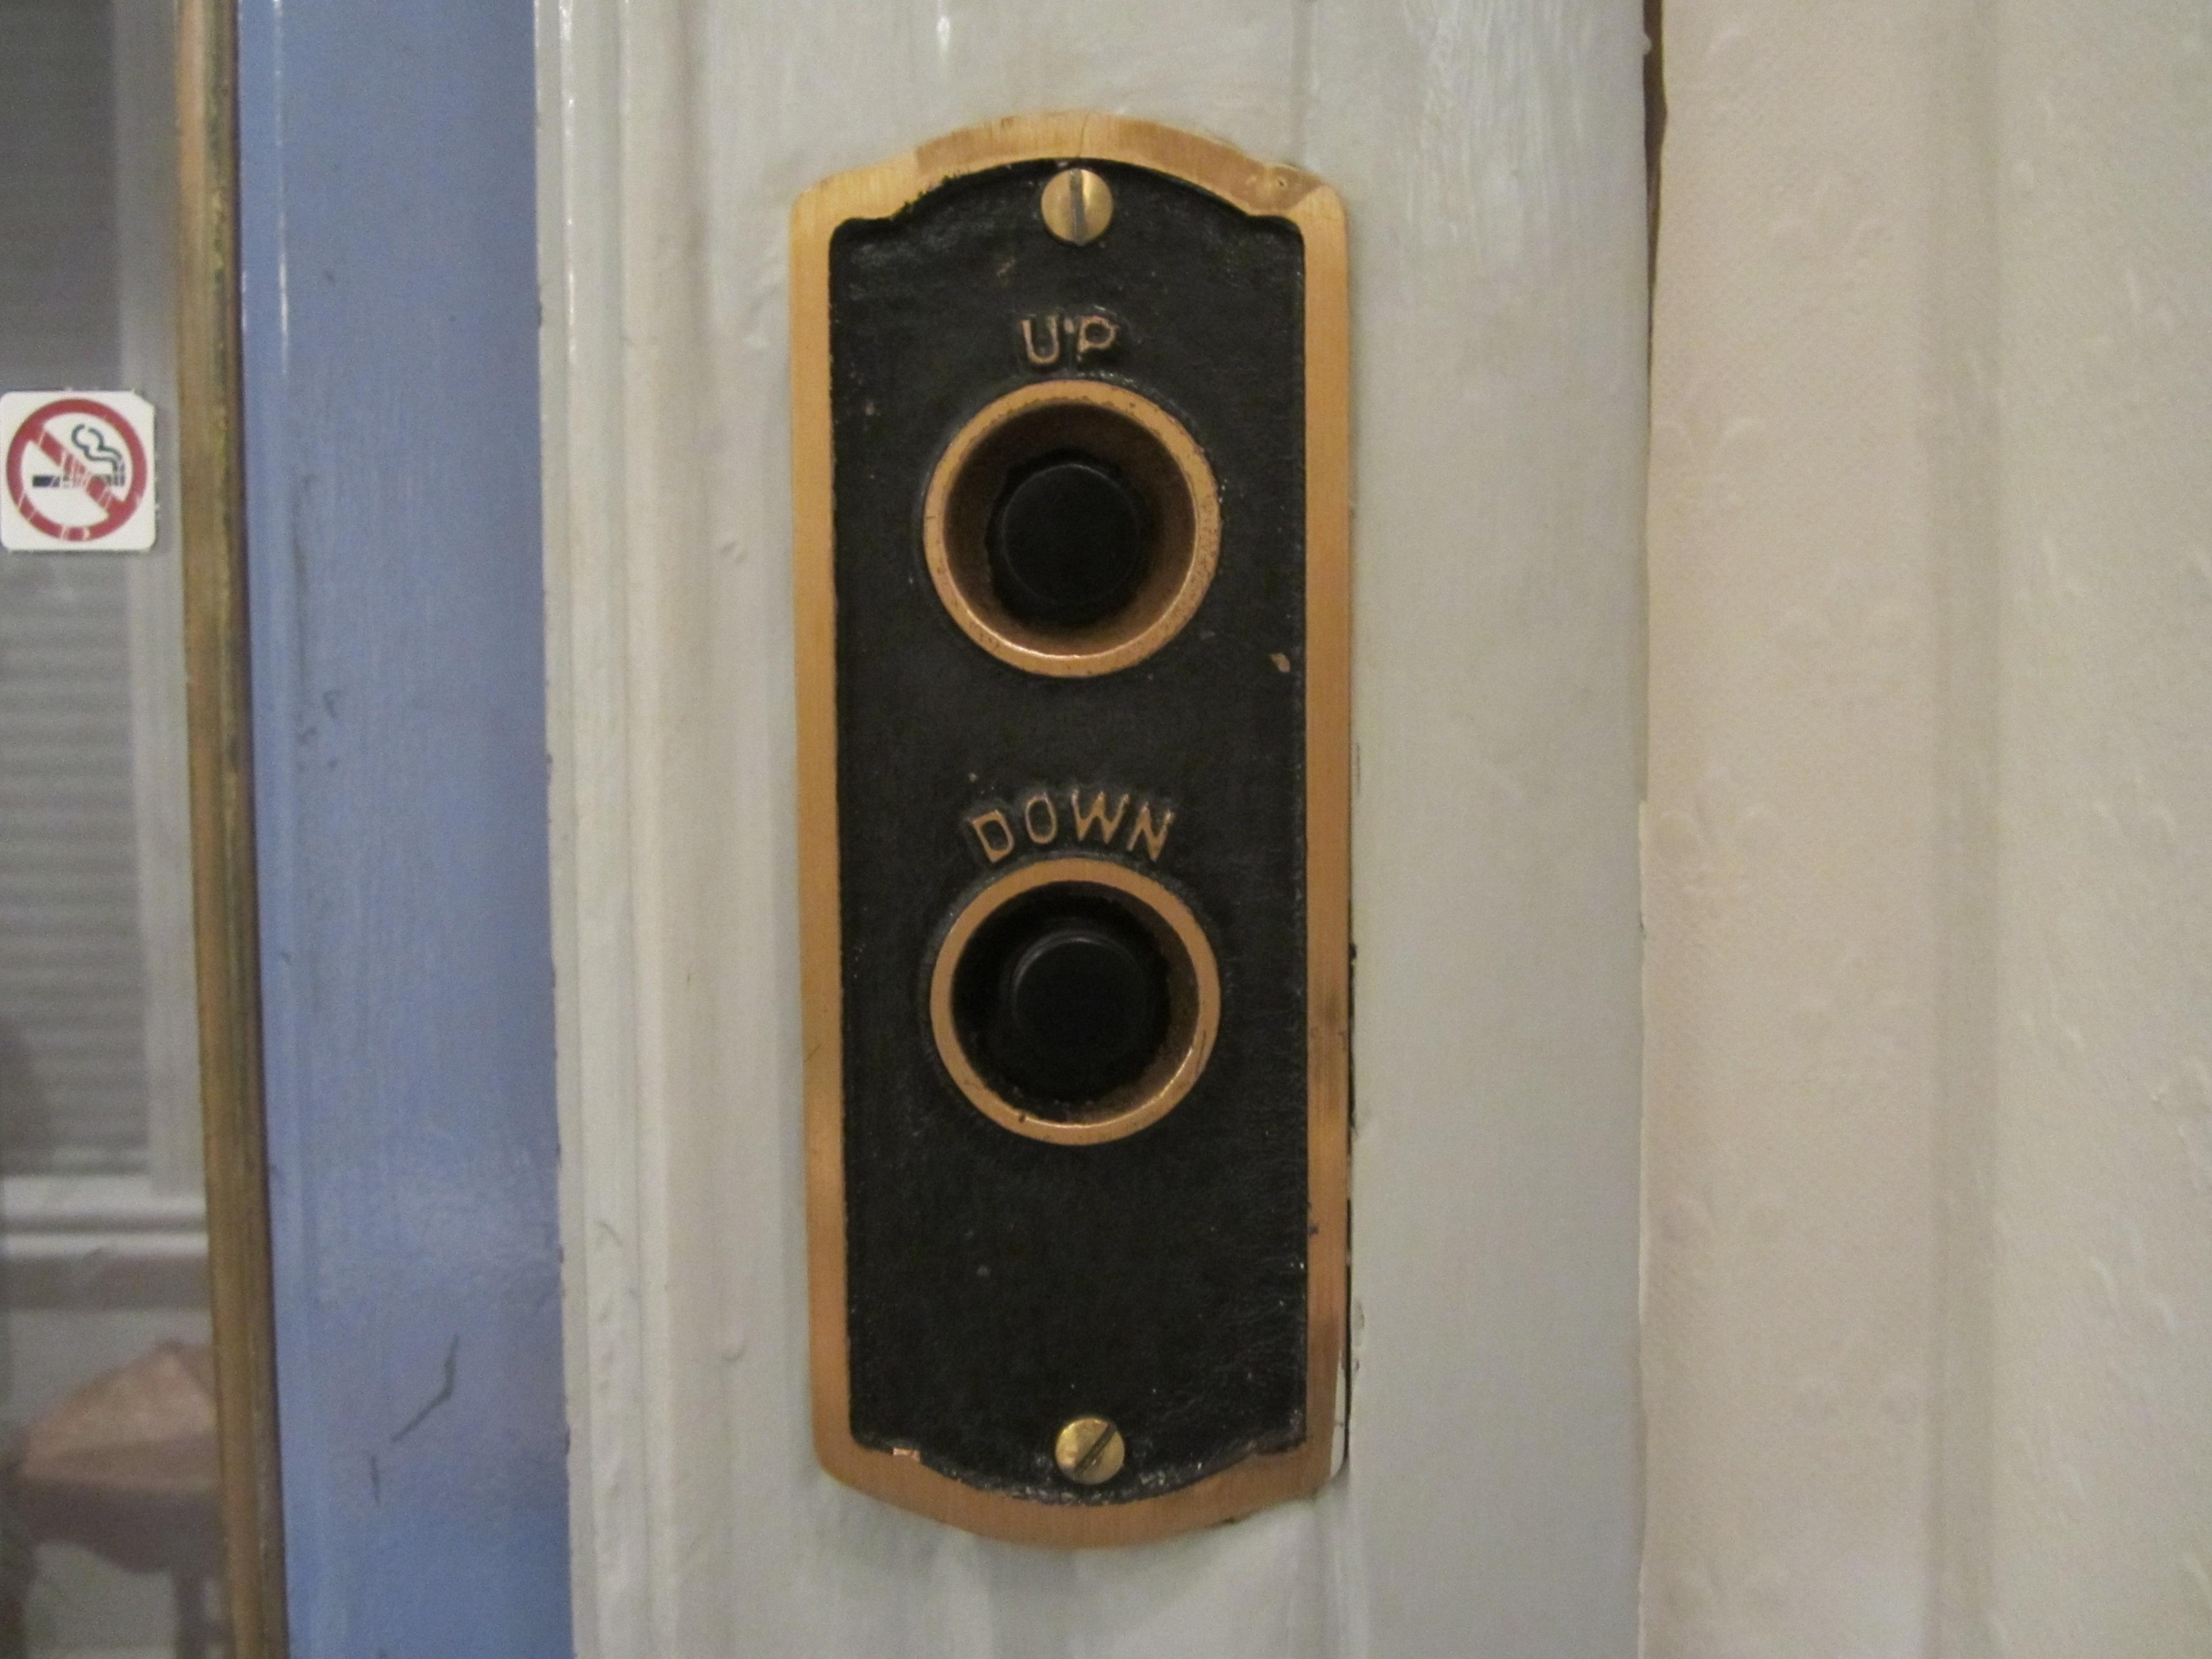empty: (916, 373, 1228, 688), (921, 845, 1224, 1150)
